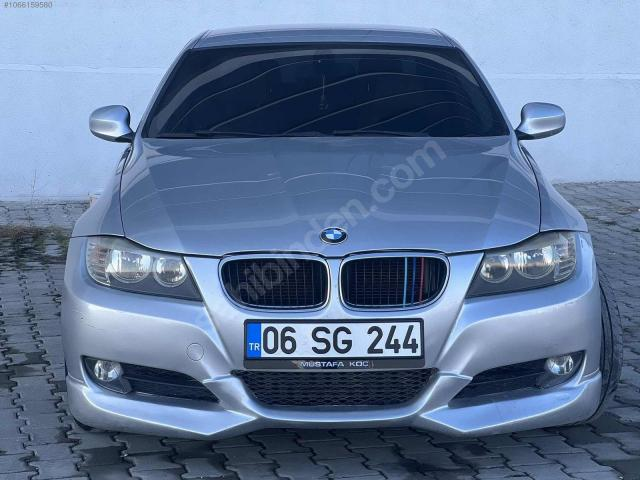plaka: (245, 320, 423, 359)
